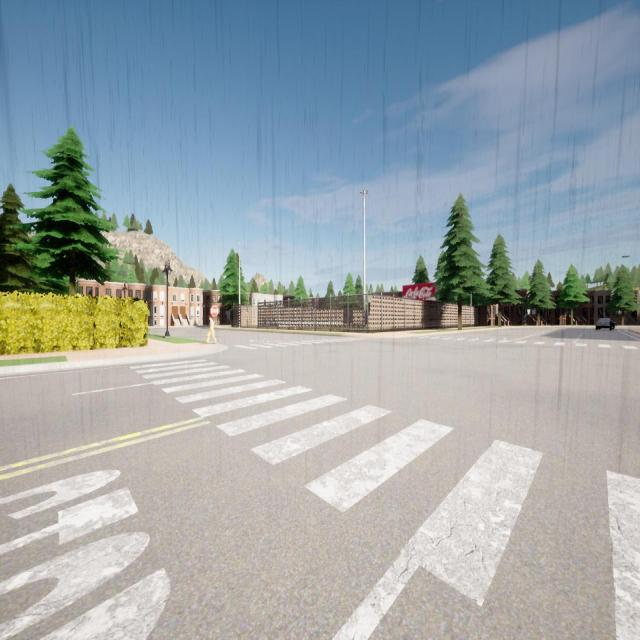Pedestrian: (207, 316, 217, 345)
Traffic_Signs: (210, 306, 218, 315)
Vehicle: (596, 317, 610, 329)
